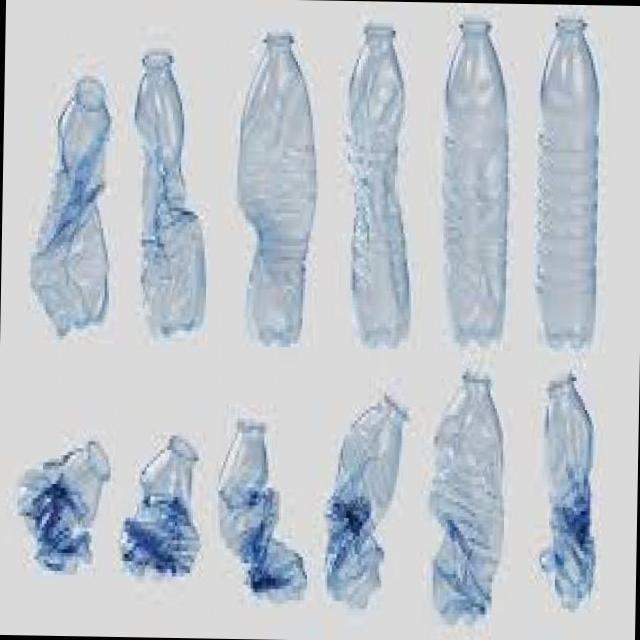defected: (220, 24, 328, 348), (424, 11, 518, 346), (332, 3, 418, 352), (25, 66, 126, 340), (416, 362, 516, 631), (126, 40, 212, 348), (315, 376, 418, 614), (212, 398, 309, 626), (524, 359, 608, 618), (120, 420, 208, 606), (12, 441, 114, 586)
good: (524, 8, 610, 364)
